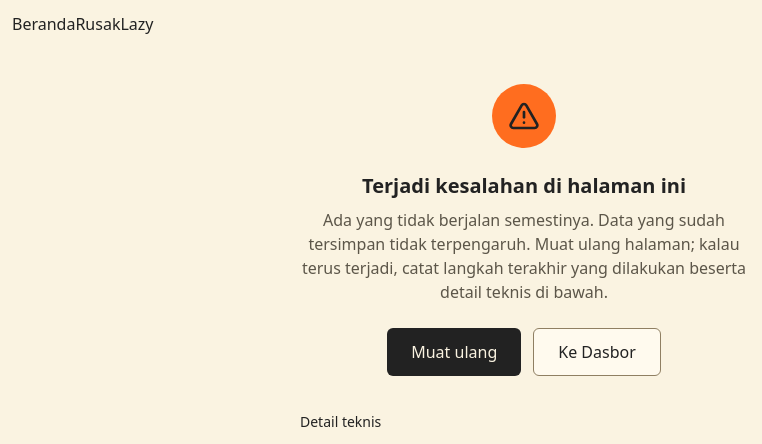
it: boundary rute › gagal impor lazy saat online menampilkan Versi baru tersedia
This screenshot has width=762, height=444.
Click the link "Lazy". click: [137, 24]
box: [120,13,153,35]
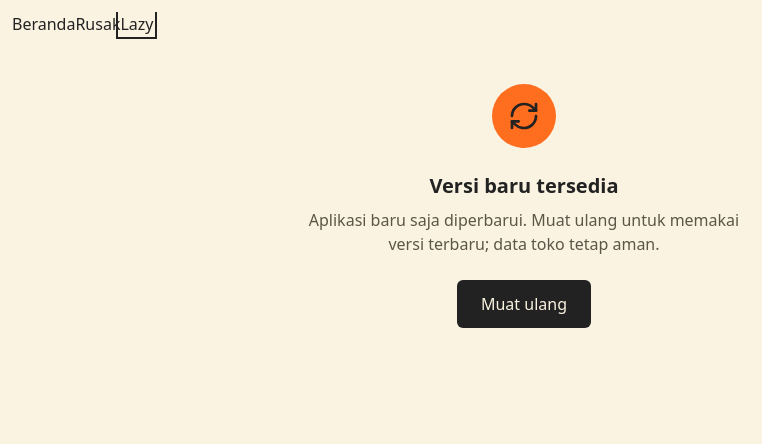
Now the heading "Versi baru tersedia" is shown, box [430,172,619,200]
